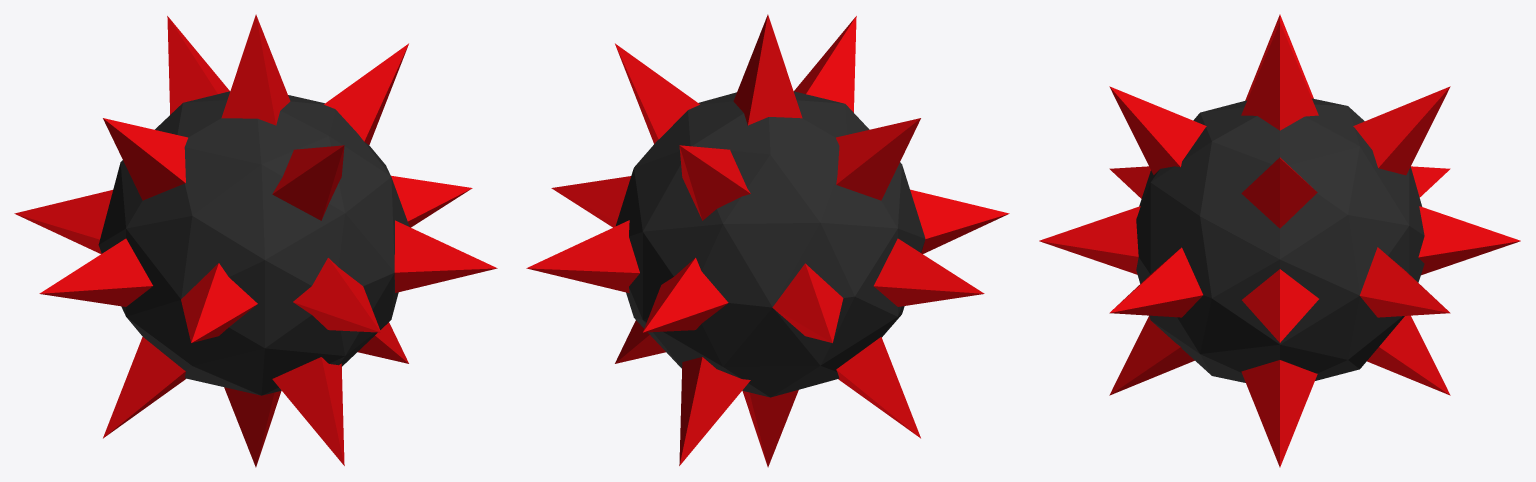
File: Mine_000.fbx
3 views of the same model, side by side, from view 1: azimuth 30°, elevation 25°; view 2: azimuth 150°, elevation 25°; view 3: azimuth 270°, elevation 25° (orthographic). The views are drawn at different scales.
Parts seen in each view (by area): view 1: Mine.000; view 2: Mine.000; view 3: Mine.000.
Part boxes in pixels (x1=…): Mine.000: x1=14, y1=14, x2=497, y2=467; Mine.000: x1=526, y1=14, x2=1009, y2=467; Mine.000: x1=1039, y1=14, x2=1520, y2=467.
Size of the model in its own units: 2.26 by 2.26 by 2.26.
